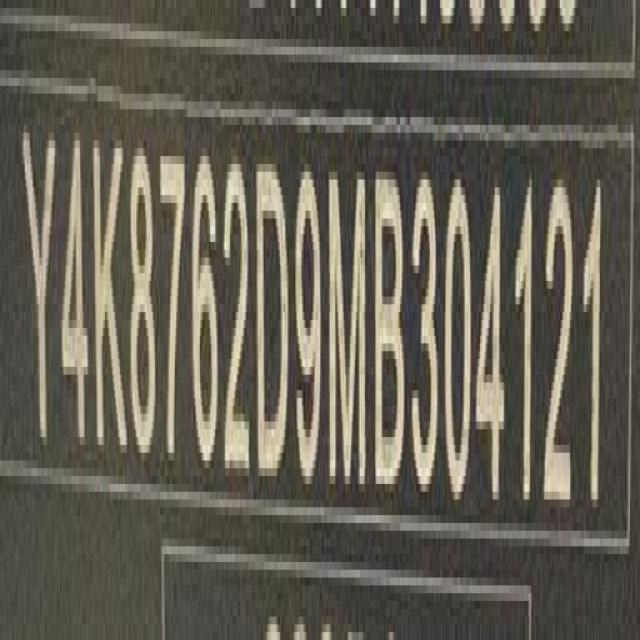0: (446, 175, 474, 510)
1: (514, 172, 536, 517), (582, 177, 601, 520)
2: (547, 178, 576, 520), (224, 153, 253, 491)
3: (412, 172, 440, 503)
4: (60, 126, 91, 460), (476, 172, 504, 515)
6: (192, 146, 222, 478)
7: (160, 144, 187, 472)
8: (130, 142, 157, 469)
9: (294, 167, 324, 492)
B: (376, 169, 408, 503)
D: (254, 162, 290, 503)
K: (94, 134, 129, 473)
M: (328, 165, 370, 503)
Y: (23, 111, 57, 459)
